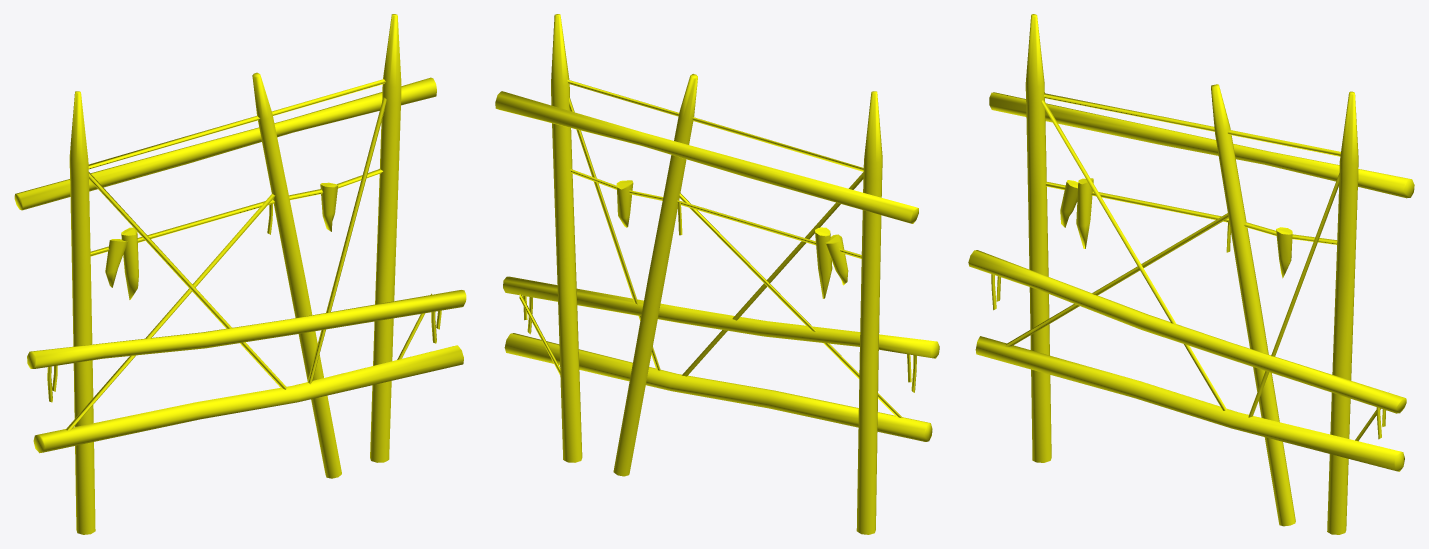
The model's file is camp_redthief_fence_01.glb.
3 views of the same model, side by side, from view 1: azimuth 30°, elevation 25°; view 2: azimuth 150°, elevation 25°; view 3: azimuth 330°, elevation 25° (orthographic).
Parts seen in each view (by area): view 1: camp_redthief_fence_01; view 2: camp_redthief_fence_01; view 3: camp_redthief_fence_01.
Part boxes in pixels (x1=…): camp_redthief_fence_01: x1=14, y1=14, x2=466, y2=534; camp_redthief_fence_01: x1=495, y1=14, x2=939, y2=534; camp_redthief_fence_01: x1=968, y1=14, x2=1414, y2=534.
Bounding box in the file's own units: 11.49 × 11.3 × 1.26.
Materials: 2 (2 with a texture image).
